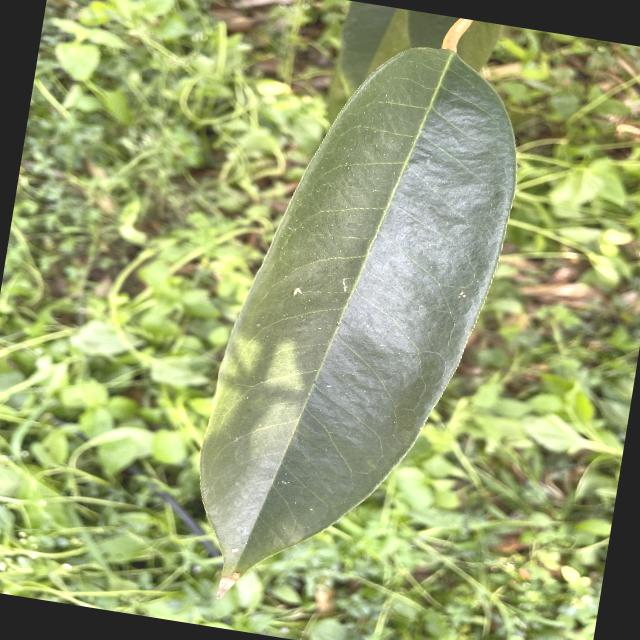No Disease: (167, 9, 543, 634)
